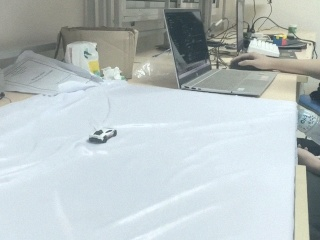box: (58, 27, 138, 79)
mouse: (229, 53, 261, 71)
toy_car: (88, 128, 117, 143)
